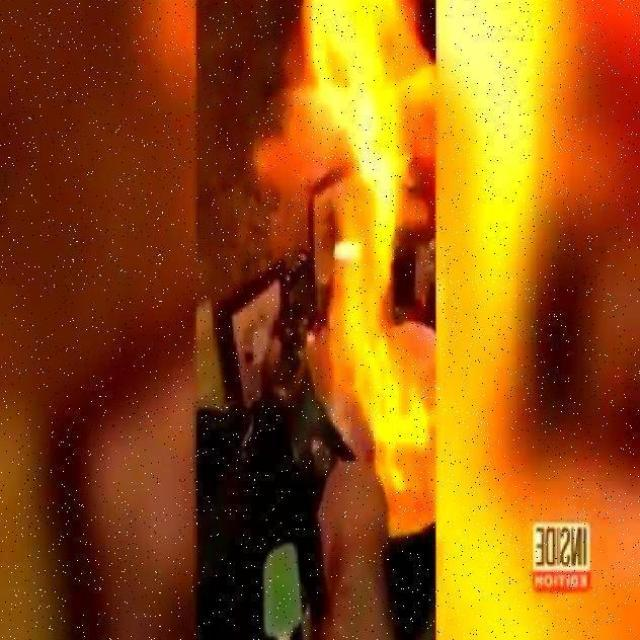smoke: (300, 0, 430, 539)
